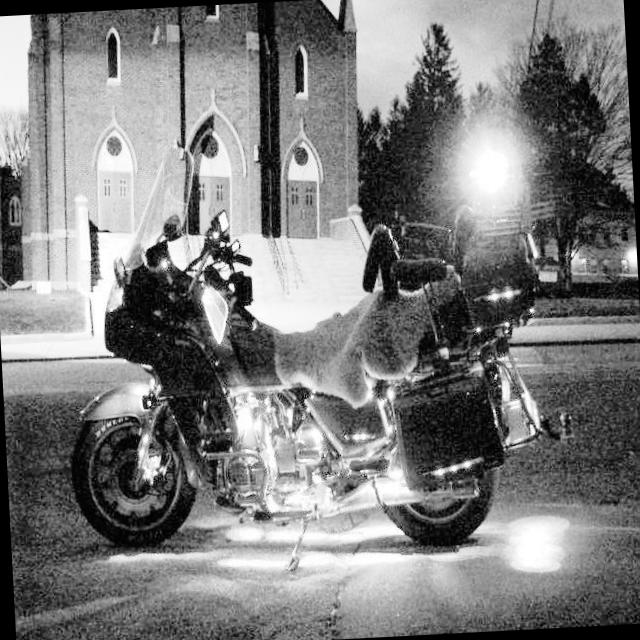Motorcycle: (36, 78, 578, 612)
